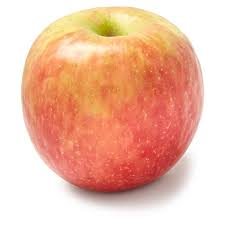apple: (19, 5, 206, 195)
